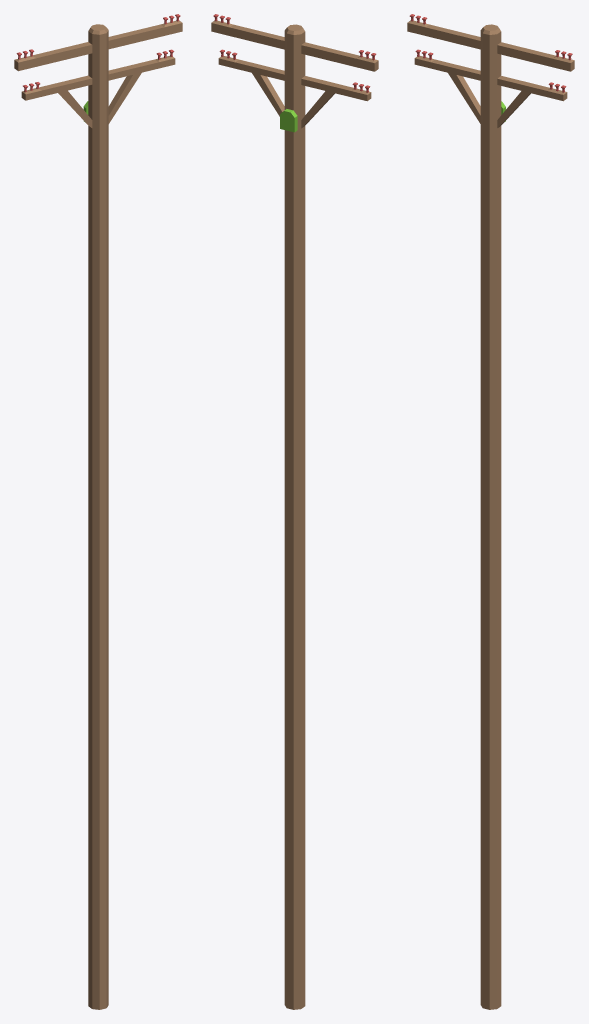
Rendered from Pole.fbx.
3 renders of one model, left to right at view 1: azimuth 30°, elevation 25°; view 2: azimuth 150°, elevation 25°; view 3: azimuth 330°, elevation 25°, orthographic.
Parts seen in each view (by area): view 1: Cylinder; view 2: Cylinder; view 3: Cylinder.
Part boxes in pixels (<box>): Cylinder: <box>14,14,182,1009</box>; Cylinder: <box>211,14,378,1009</box>; Cylinder: <box>407,14,574,1009</box>.
Bounding box in the file's own units: 222 × 1267 × 29.14.
